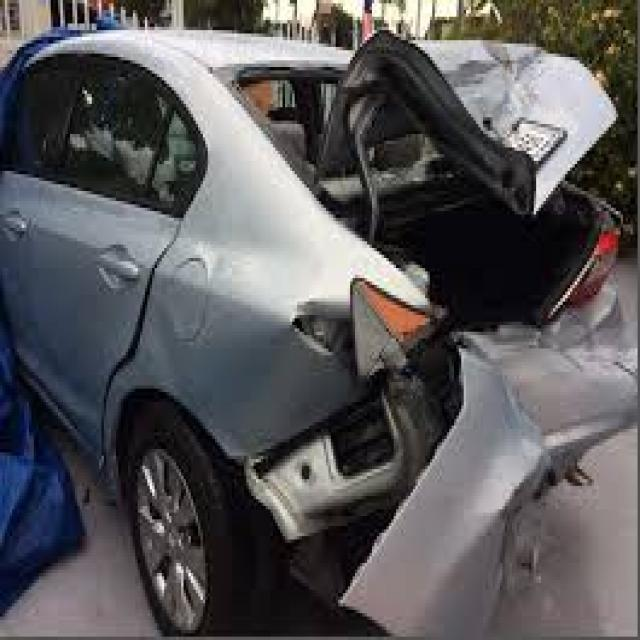damaged-rear-bumper: (230, 313, 622, 581)
